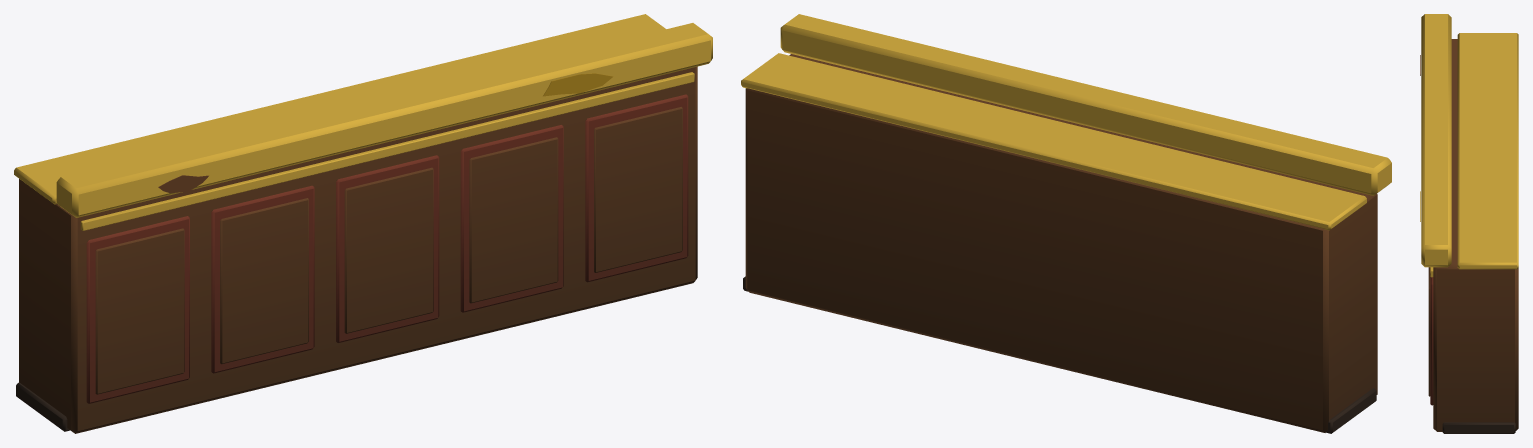
Rendered from 73_comptoir_reception.fbx.
3 renders of one model, left to right at view 1: azimuth 30°, elevation 25°; view 2: azimuth 150°, elevation 25°; view 3: azimuth 270°, elevation 25°, orthographic. The views are drawn at different scales.
Visible parts, largest first — view 1: Comptoir, Dessus; view 2: Comptoir, Dessus; view 3: Dessus, Comptoir.
Boxes of the visible parts, box(x1,y1,x2,y2) form: Comptoir: box(16, 66, 697, 433); Dessus: box(14, 14, 712, 217); Comptoir: box(743, 54, 1377, 433); Dessus: box(741, 14, 1391, 230); Dessus: box(1420, 14, 1518, 269); Comptoir: box(1428, 39, 1518, 433).
Size of the model in its own units: 2.52 by 0.952 by 0.448.
Materials: 1 (1 with a texture image).
